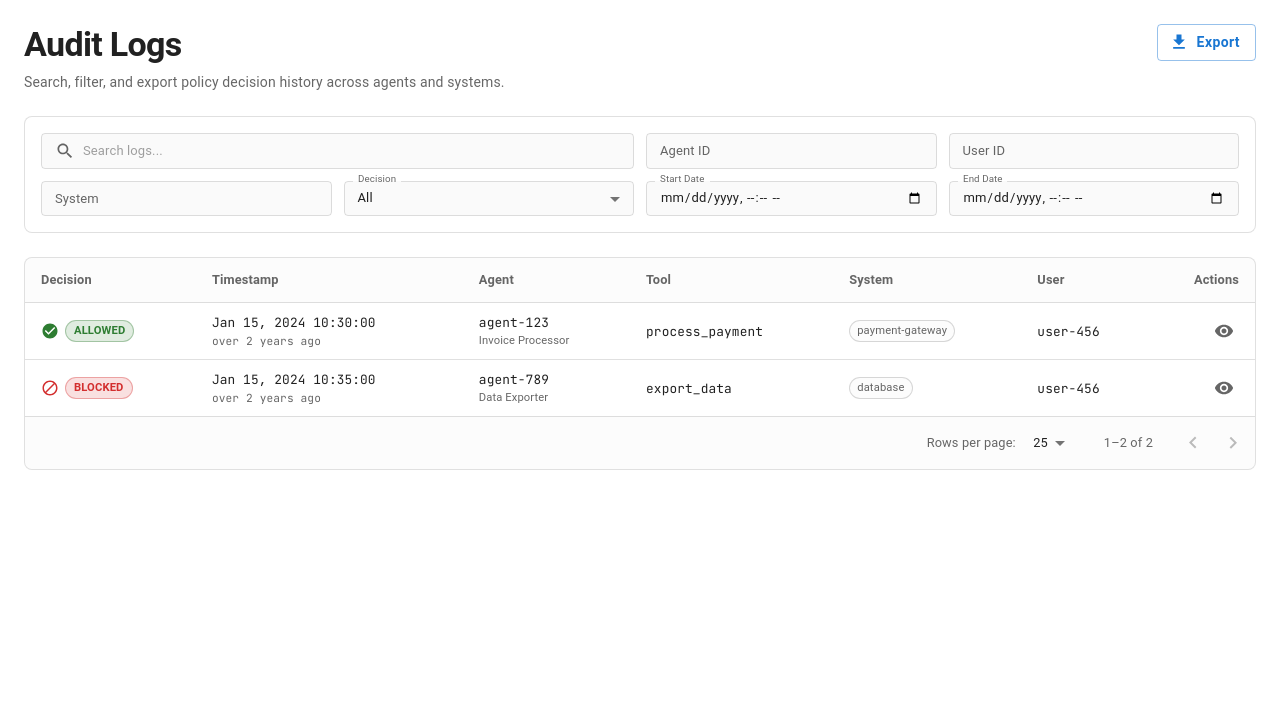
Scenario: AuditLogs › clears filters when clear button is clicked
The image size is (1280, 720).
expect the text "Invoice Processor" is shown: met, box [479,334,569,347]
Note: Set a filter
Type "agent-123" into the field labelled "Agent ID".
click(791, 151); type("agent-123")  # box [646,133,936,169]
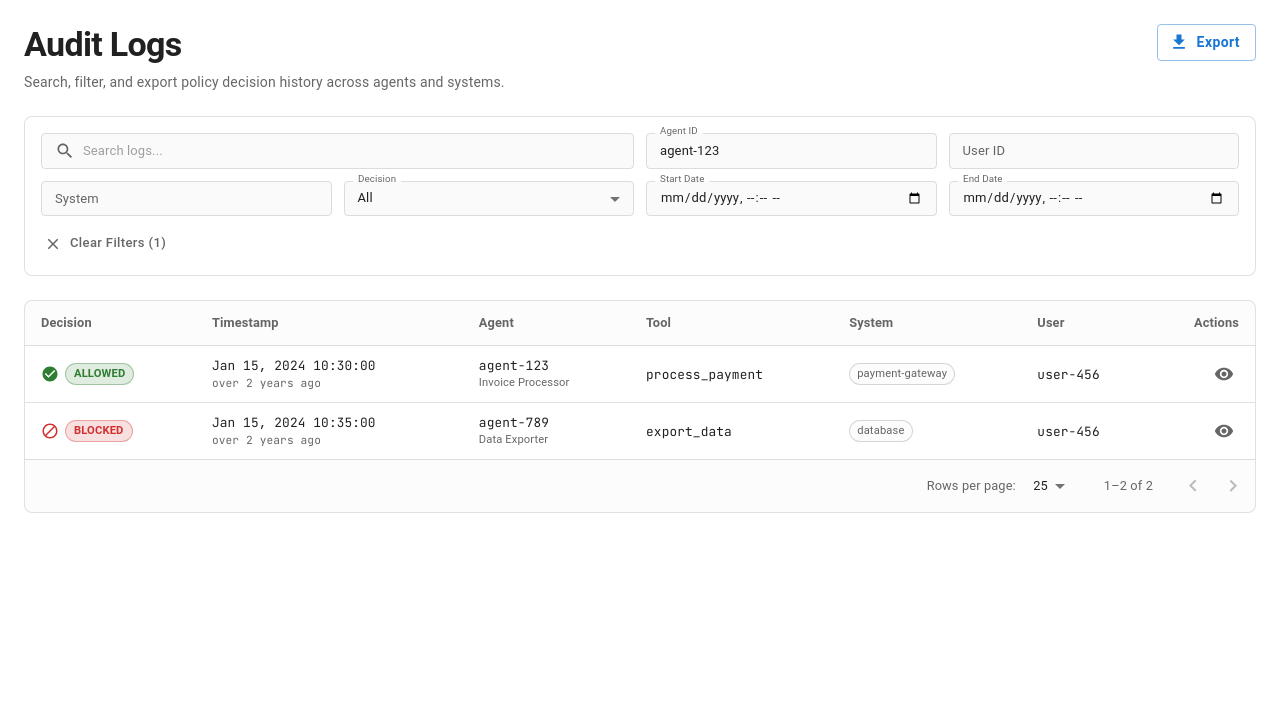
expect the button "Clear Filters (1)" is shown: met
Click the button "Clear Filters (1)".
click(106, 244)  # box [41,228,171,259]
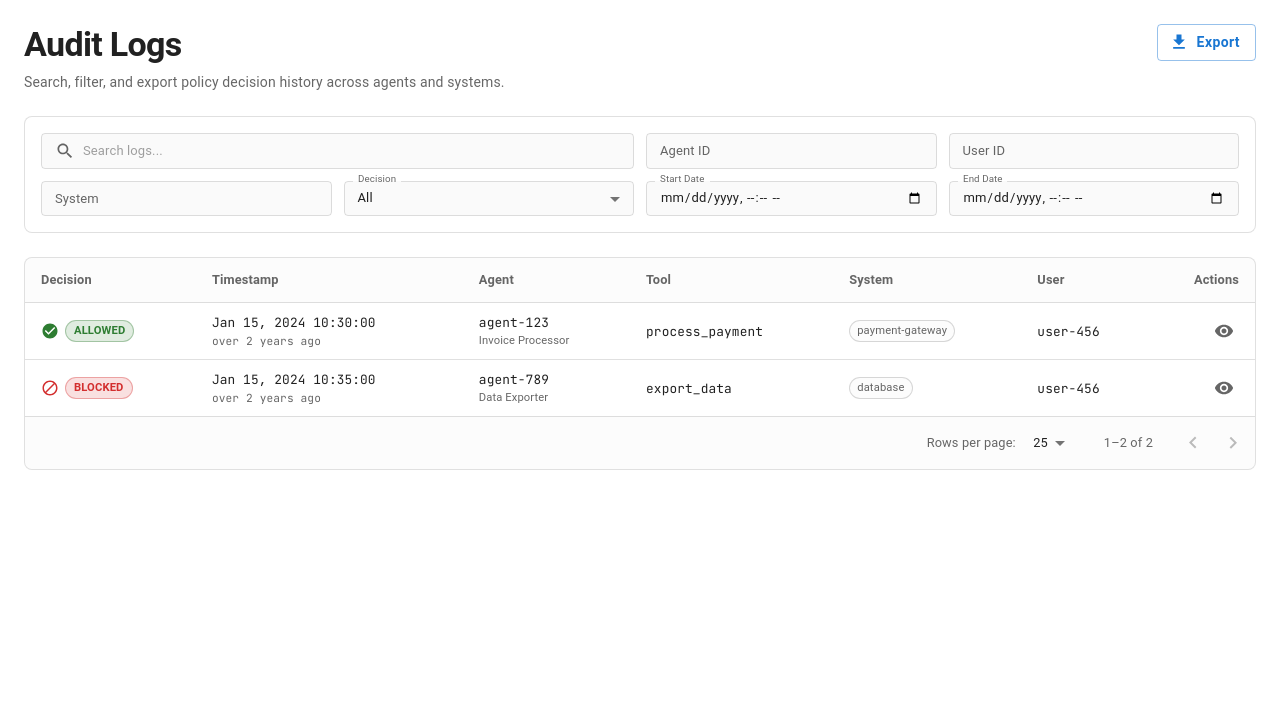
expect the field labelled "Agent ID" is empty: met, box [646,133,936,169]
